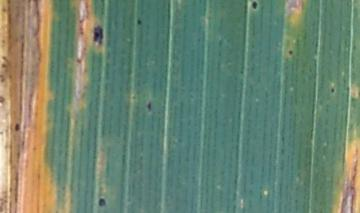tarspot: (90, 22, 104, 47), (96, 194, 108, 208), (12, 119, 22, 135), (145, 99, 154, 114), (287, 46, 295, 58), (135, 18, 144, 26), (251, 1, 259, 10), (329, 85, 336, 94)
